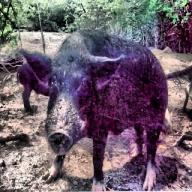boar: (16, 27, 173, 191)
